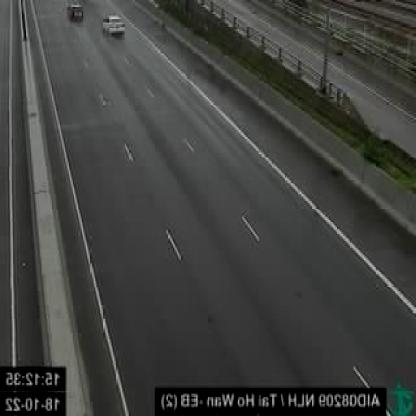Car: (102, 12, 126, 38), (66, 0, 86, 24)
